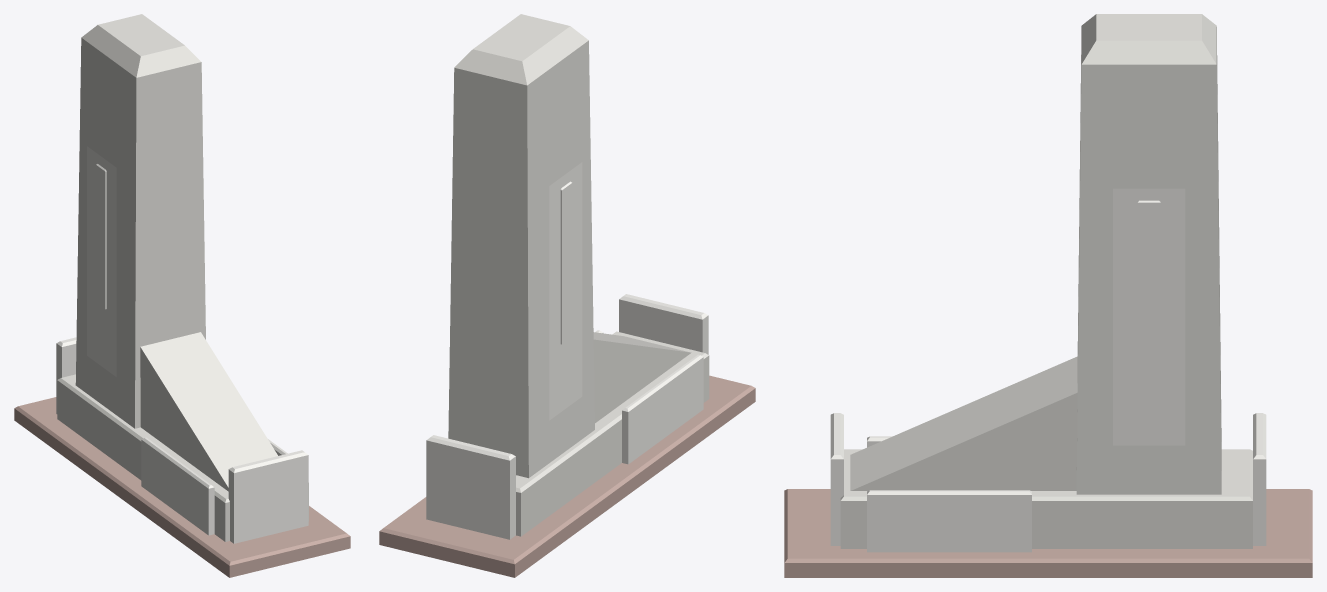
File: sat-alamo-cenotaph.glb
3 renders of one model, left to right at view 1: azimuth 30°, elevation 25°; view 2: azimuth 150°, elevation 25°; view 3: azimuth 270°, elevation 25°, orthographic. The views are drawn at different scales.
Parts seen in each view (by area): view 1: Alamo Cenotaph; view 2: Alamo Cenotaph; view 3: Alamo Cenotaph.
Boxes of the visible parts, x1,y1,x2,y2 form: Alamo Cenotaph: [14, 14, 350, 577]; Alamo Cenotaph: [379, 14, 755, 577]; Alamo Cenotaph: [784, 14, 1312, 577].
Size of the model in its own units: 5.2 by 17.2 by 16.
